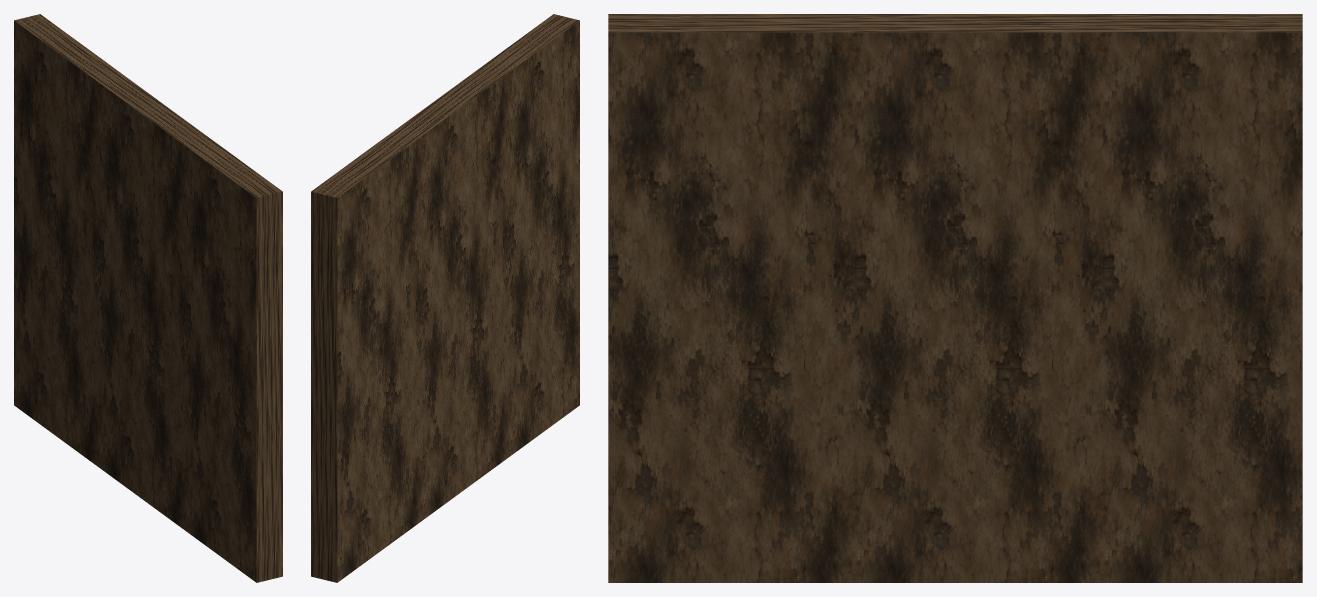
3 renders of one model, left to right at view 1: azimuth 30°, elevation 25°; view 2: azimuth 150°, elevation 25°; view 3: azimuth 270°, elevation 25°, orthographic. The views are drawn at different scales.
Parts seen in each view (by area): view 1: fixture-D-recess-side; view 2: fixture-D-recess-side; view 3: fixture-D-recess-side.
Boxes of the visible parts, bbox=[...] form: fixture-D-recess-side: bbox=[14, 14, 282, 582]; fixture-D-recess-side: bbox=[311, 14, 579, 582]; fixture-D-recess-side: bbox=[608, 14, 1302, 582].
Size of the model in its own units: 0.2 by 2.8 by 3.2.
Materials: 1 (1 with a texture image).
